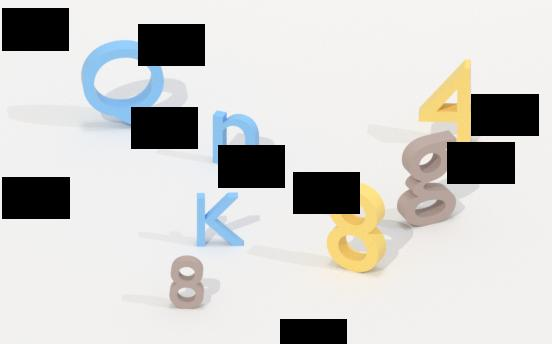4: (414, 61, 486, 153)
8: (321, 183, 389, 276), (166, 255, 210, 312)
g: (395, 138, 464, 226)
k: (194, 188, 245, 248)
n: (207, 109, 267, 172)
q: (76, 36, 170, 127)
